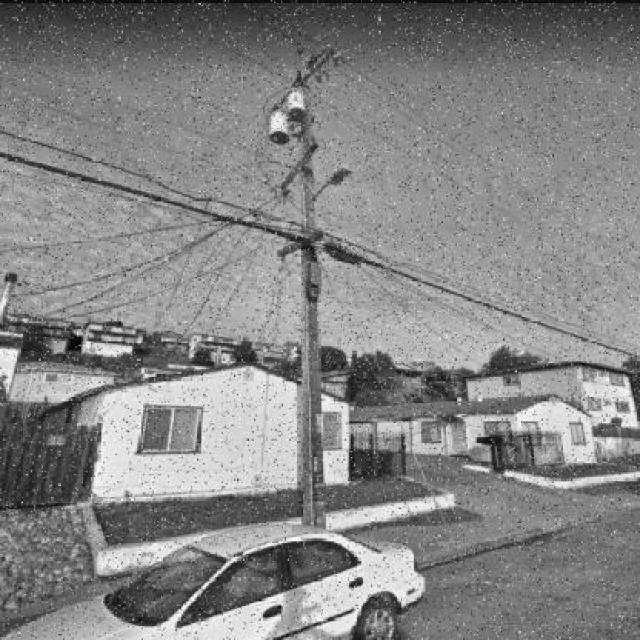pole: (214, 20, 368, 560)
